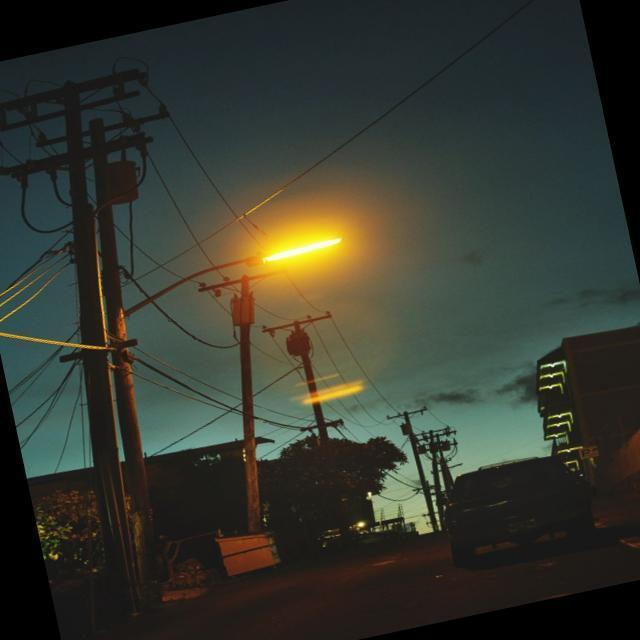on: (212, 170, 386, 310)
